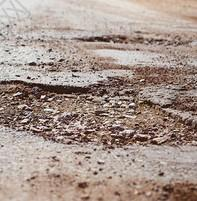pothole: (0, 83, 197, 155), (67, 29, 197, 49)
